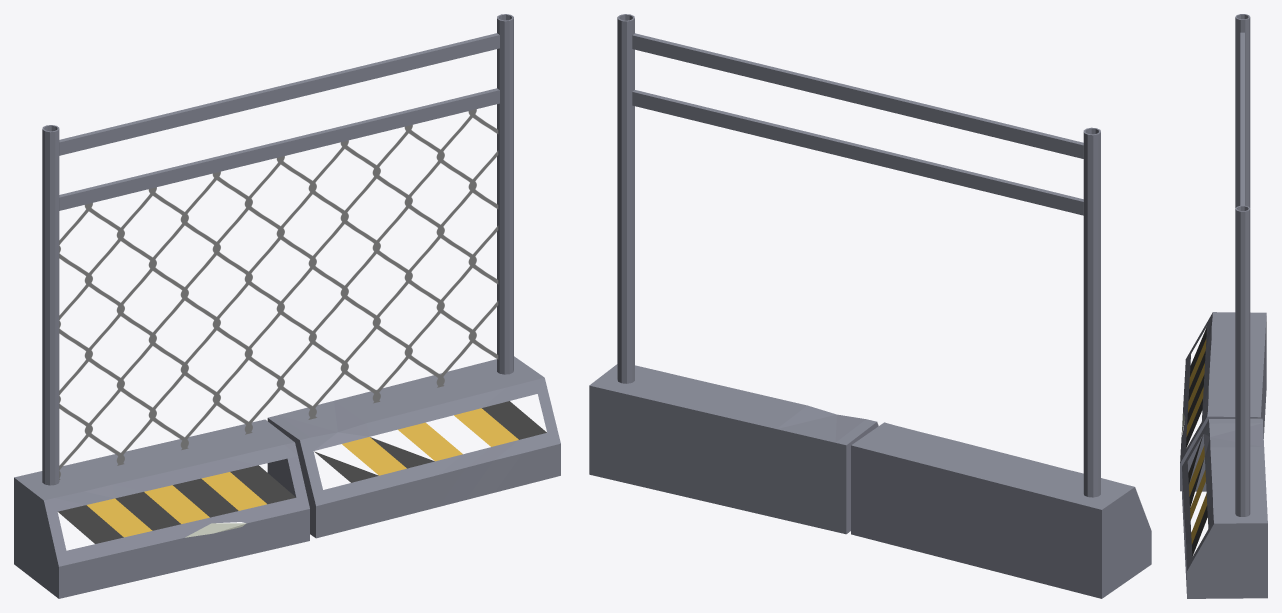
File: barrier_large_lod.glb
3 views of the same model, side by side, from view 1: azimuth 30°, elevation 25°; view 2: azimuth 150°, elevation 25°; view 3: azimuth 270°, elevation 25° (orthographic). The views are drawn at different scales.
Visible parts, largest first — view 1: Barrier_Large; view 2: Barrier_Large; view 3: Barrier_Large.
Boxes of the visible parts, x1,y1,x2,y2 form: Barrier_Large: [14, 14, 560, 598]; Barrier_Large: [589, 14, 1151, 598]; Barrier_Large: [1180, 14, 1267, 598].
Size of the model in its own units: 3.81 by 3.18 by 0.6666.
5 materials, 1 textured.
